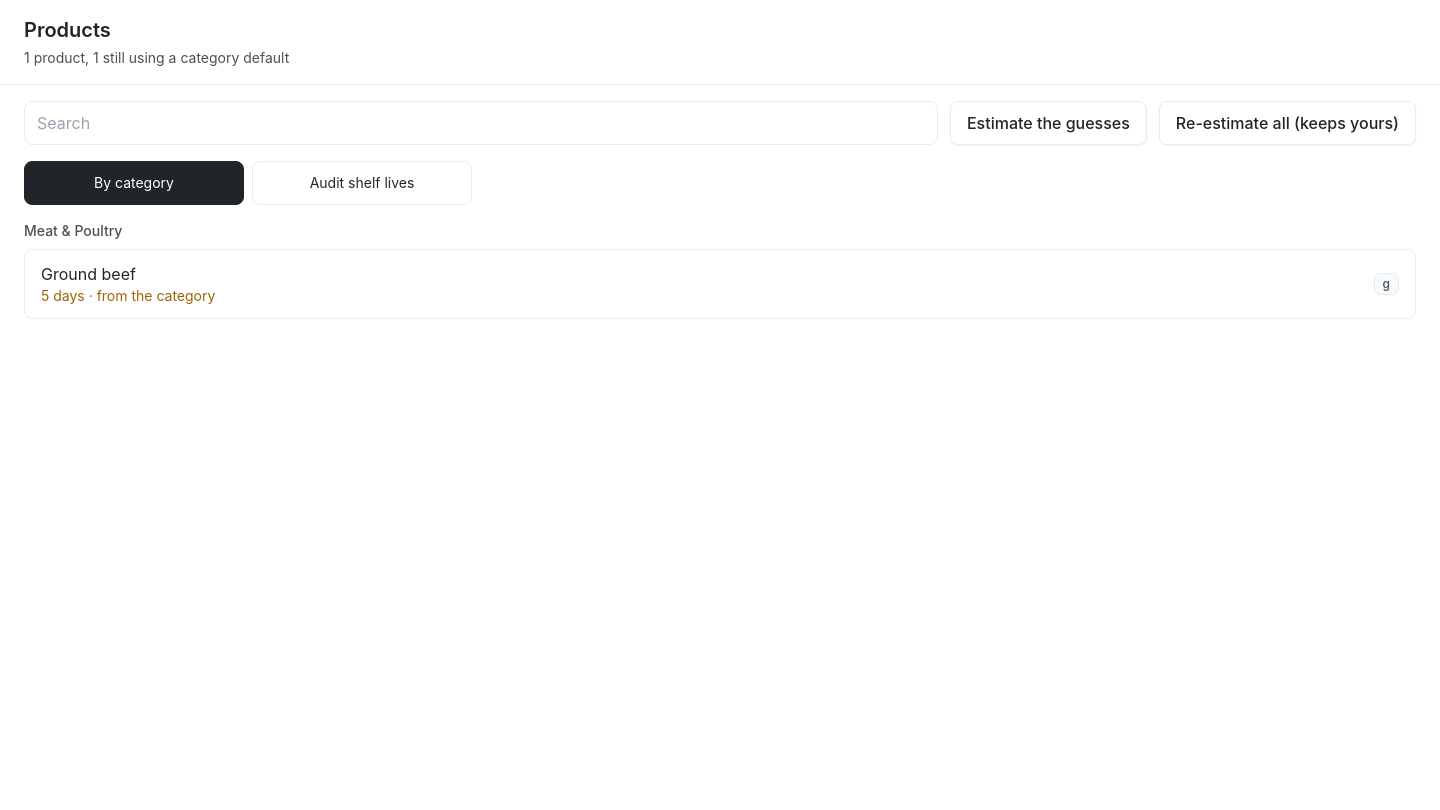
Test case: ProductsPage › shows a saved edit on the row and in the reopened sheet without a reload
Click the button "Ground beef 5 days · from the category g" at coordinates (88, 274), box [24,249,1416,319]
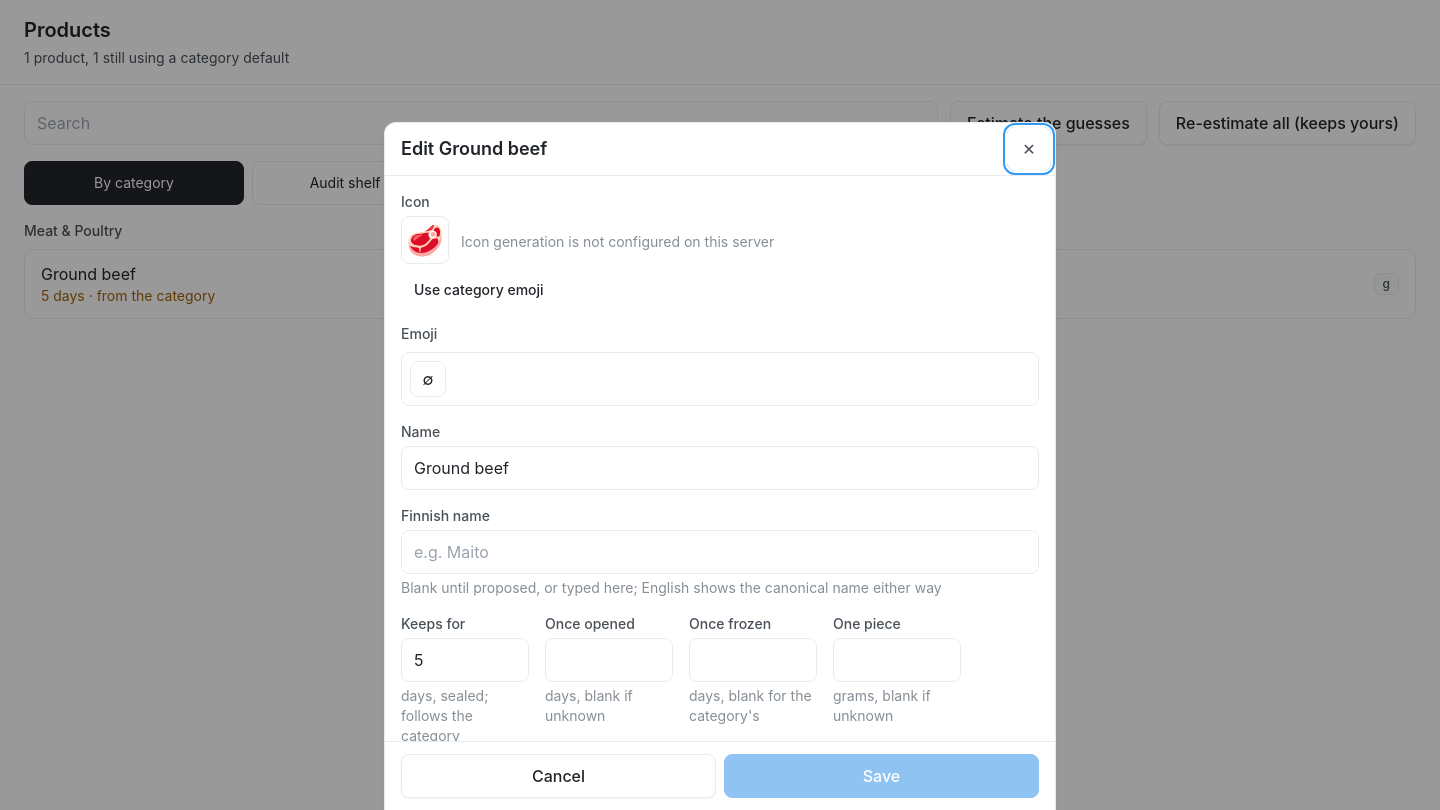
Replace the text in the number field labelled "Keeps for" with "9" at coordinates (465, 660), box [401,638,529,682]
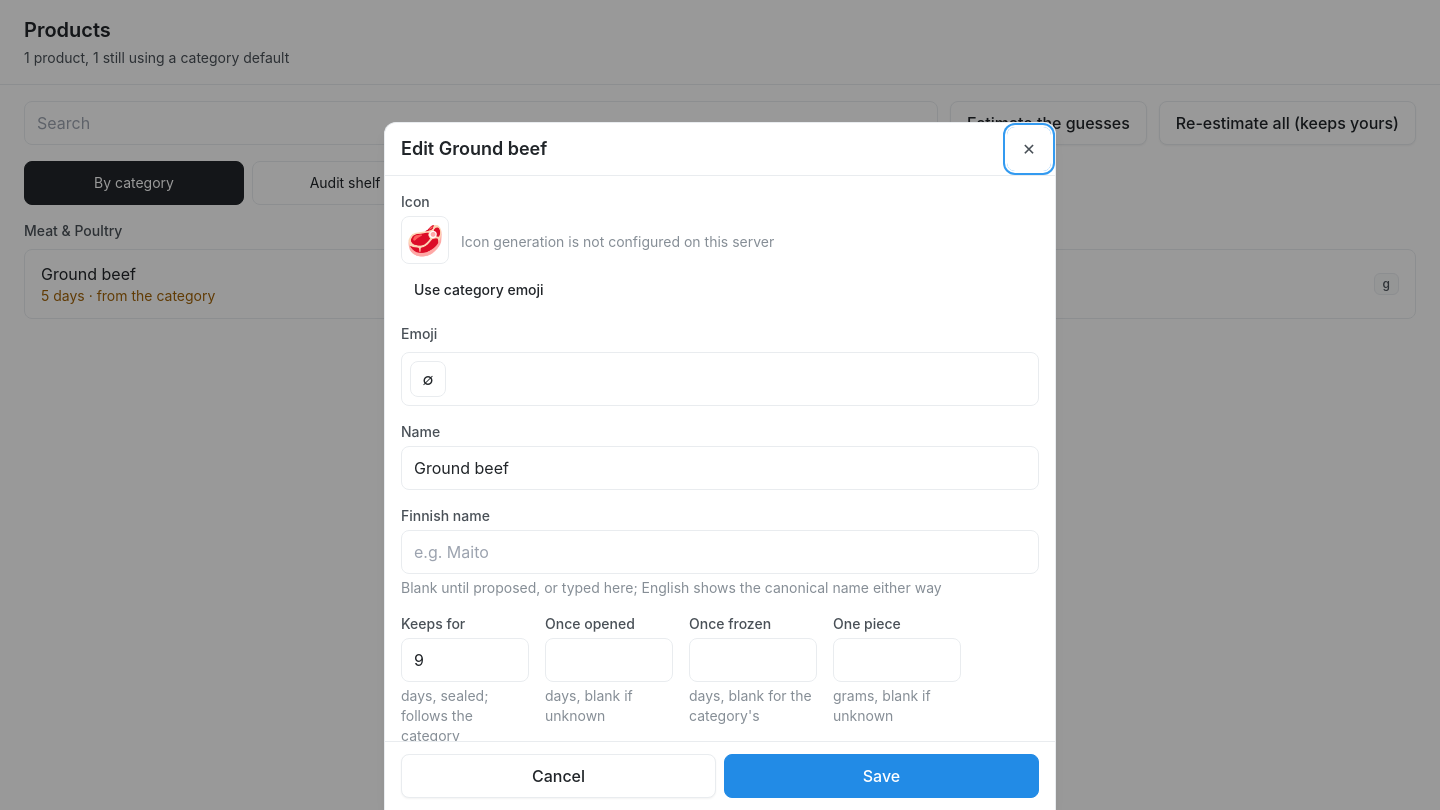
Replace the text in the field labelled "Name" with "Minced beef" at coordinates (720, 468), box [401,446,1039,490]
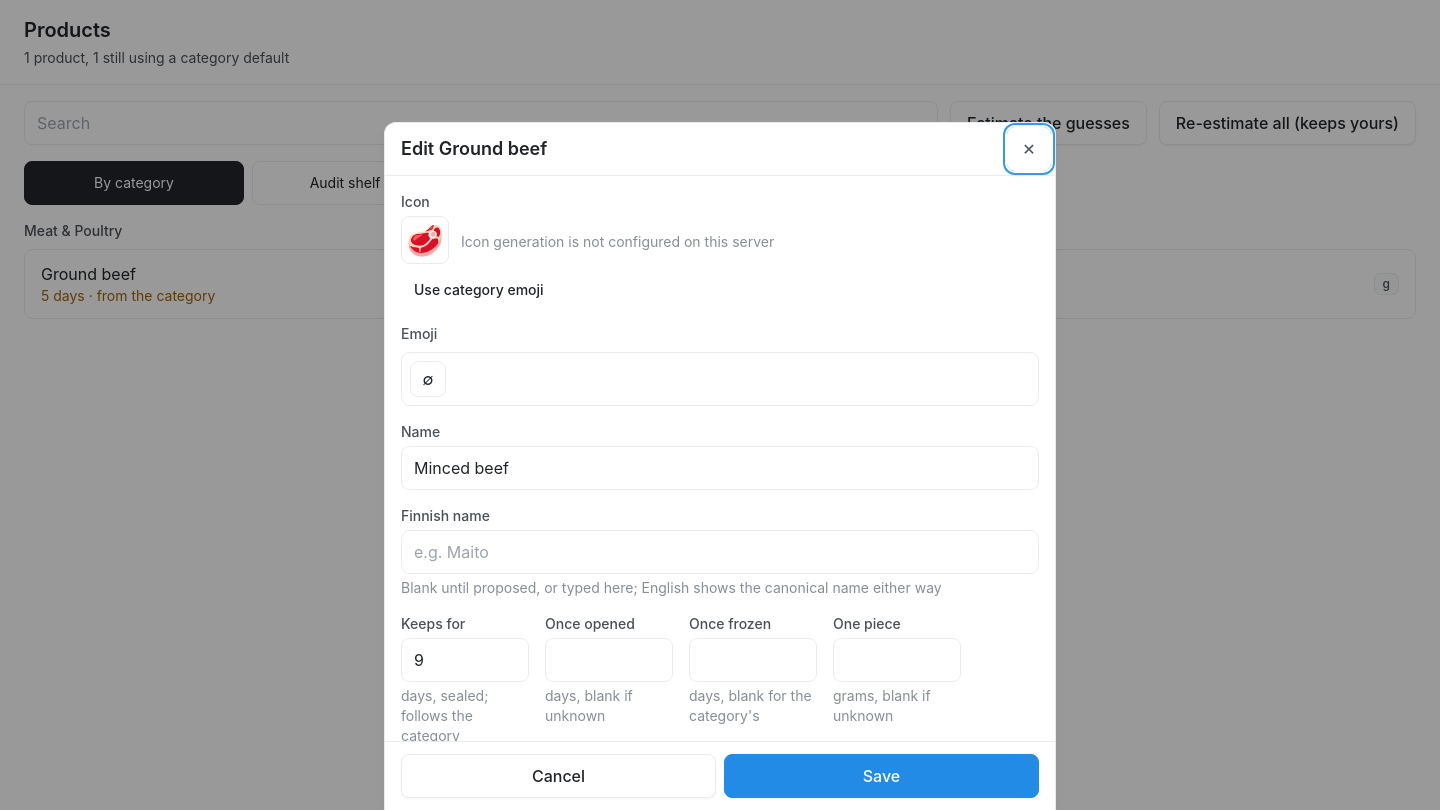
Click the button "Save" at coordinates (882, 776), box [724,754,1039,798]
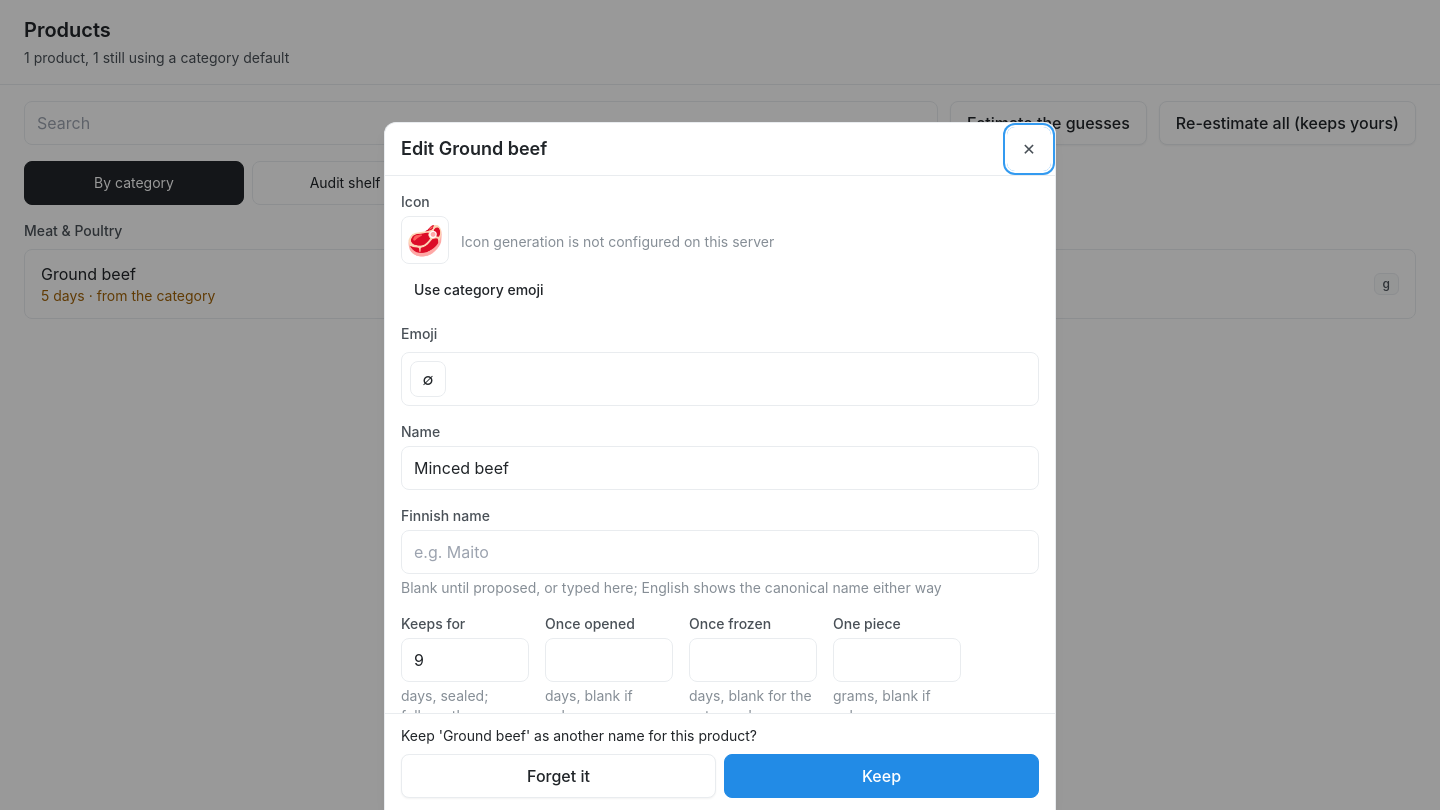
Click the button "Keep" at coordinates (882, 776), box [724,754,1039,798]
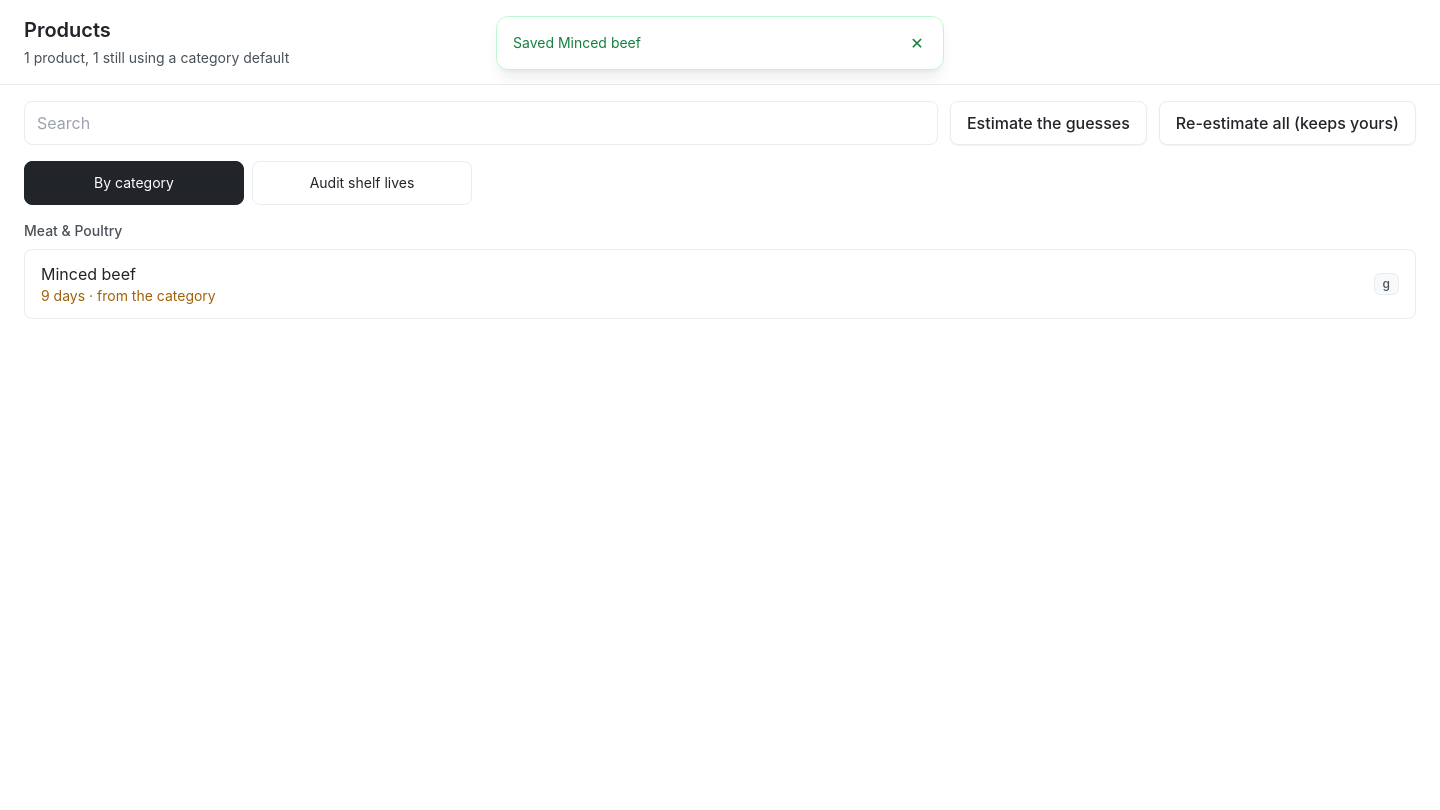
Check: the dialog is gone
Check: the button "Minced beef 9 days · from the category g" is shown
Click the button "Minced beef 9 days · from the category g" at coordinates (88, 274), box [24,249,1416,319]
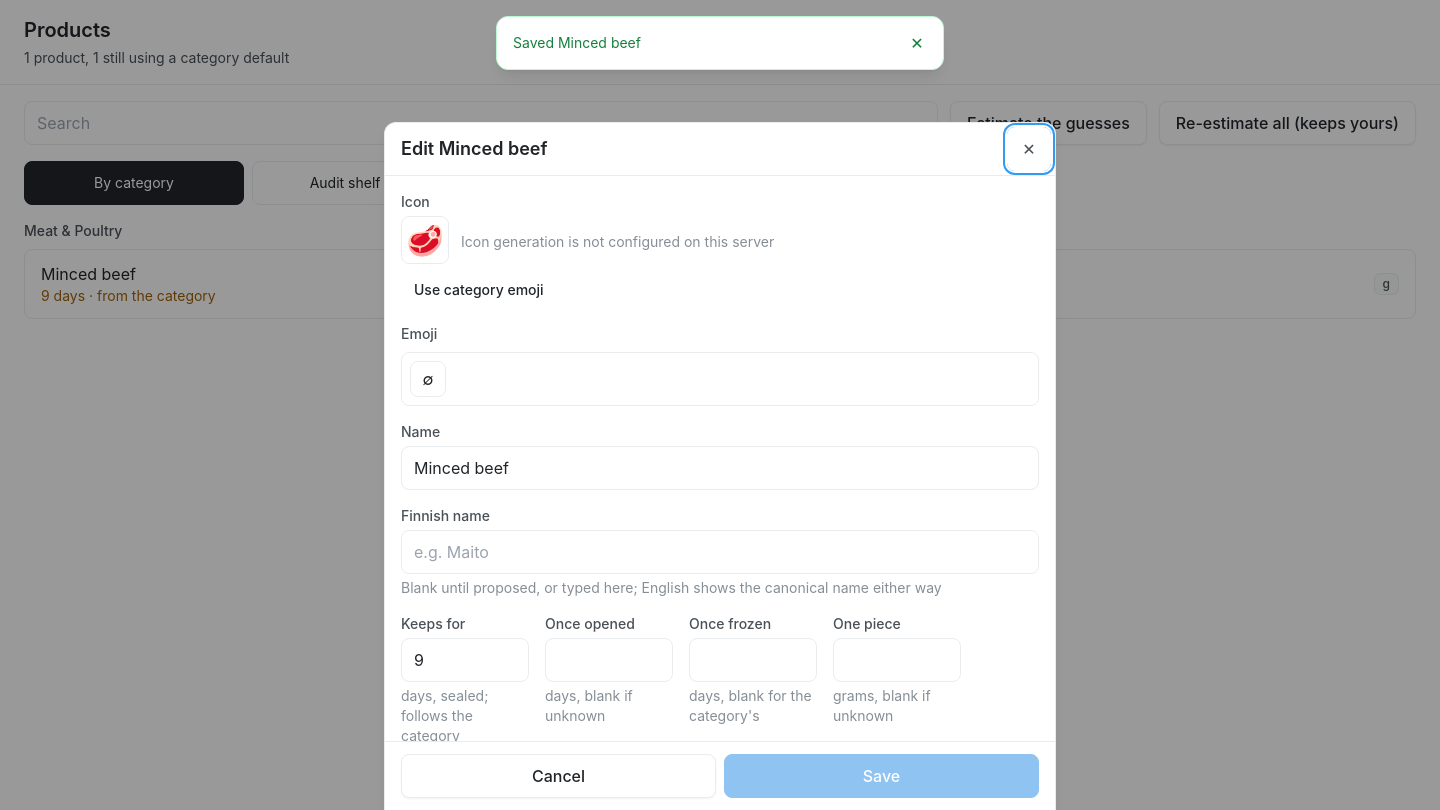
Check: the number field labelled "Keeps for" holds "9", box [401,638,529,682]
Check: the field labelled "Name" holds "Minced beef", box [401,446,1039,490]
